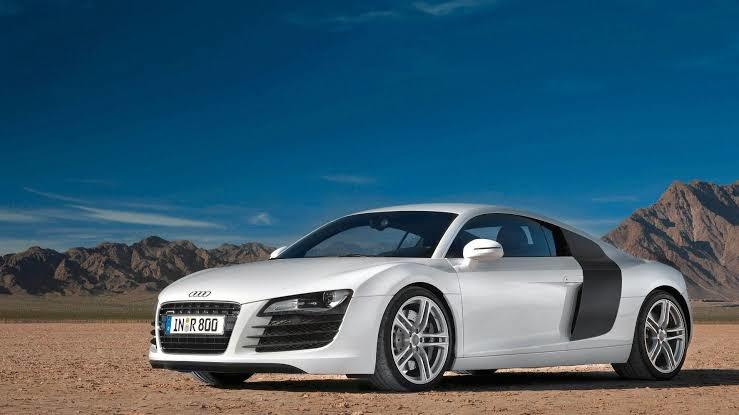audi: (115, 203, 698, 395)
